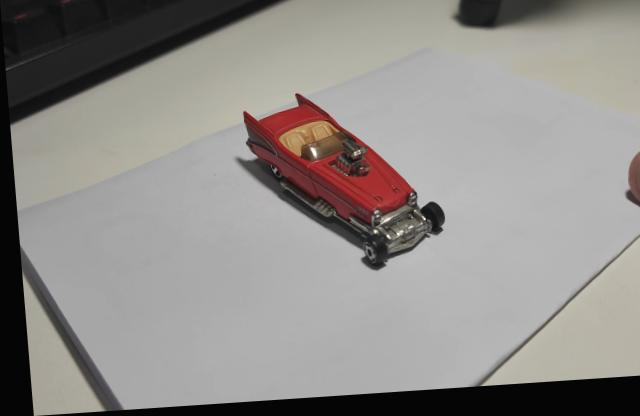03_V8: (236, 98, 442, 276)
